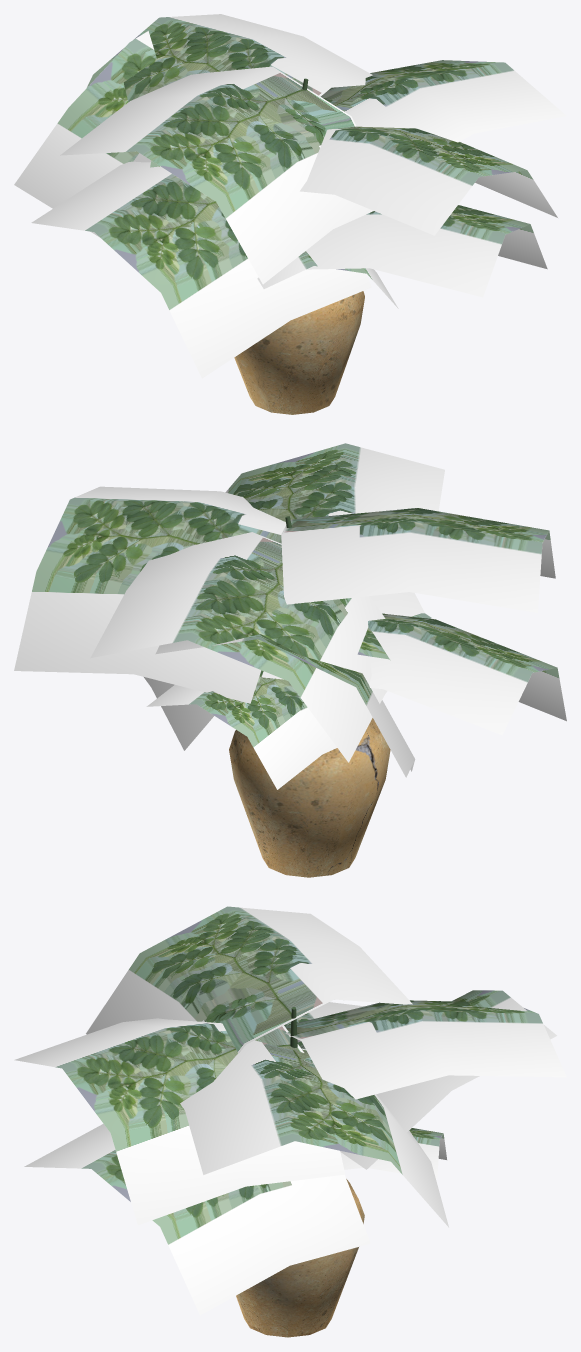
Rendered from potted plant 04.FBX.
3 views of the same model, one above another, from view 1: azimuth 30°, elevation 25°; view 2: azimuth 150°, elevation 25°; view 3: azimuth 270°, elevation 25° (orthographic). The views are drawn at different scales.
Visible parts, largest first — view 1: potted plant 04; view 2: potted plant 04; view 3: potted plant 04.
Part boxes in pixels (x1,y1,x2,y2): potted plant 04: (14, 14, 566, 414); potted plant 04: (14, 443, 566, 877); potted plant 04: (14, 906, 566, 1337).
Size of the model in its own units: 130 by 88.98 by 133.
3 materials, 2 textured.
